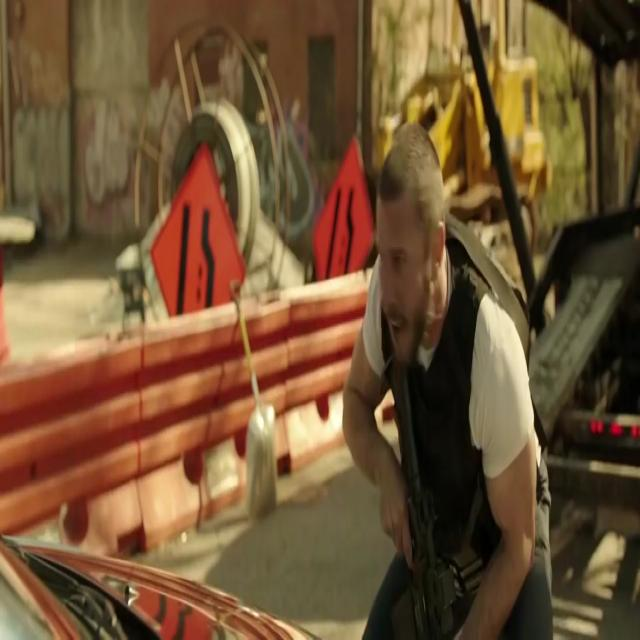Weapon: (379, 381, 458, 640)
